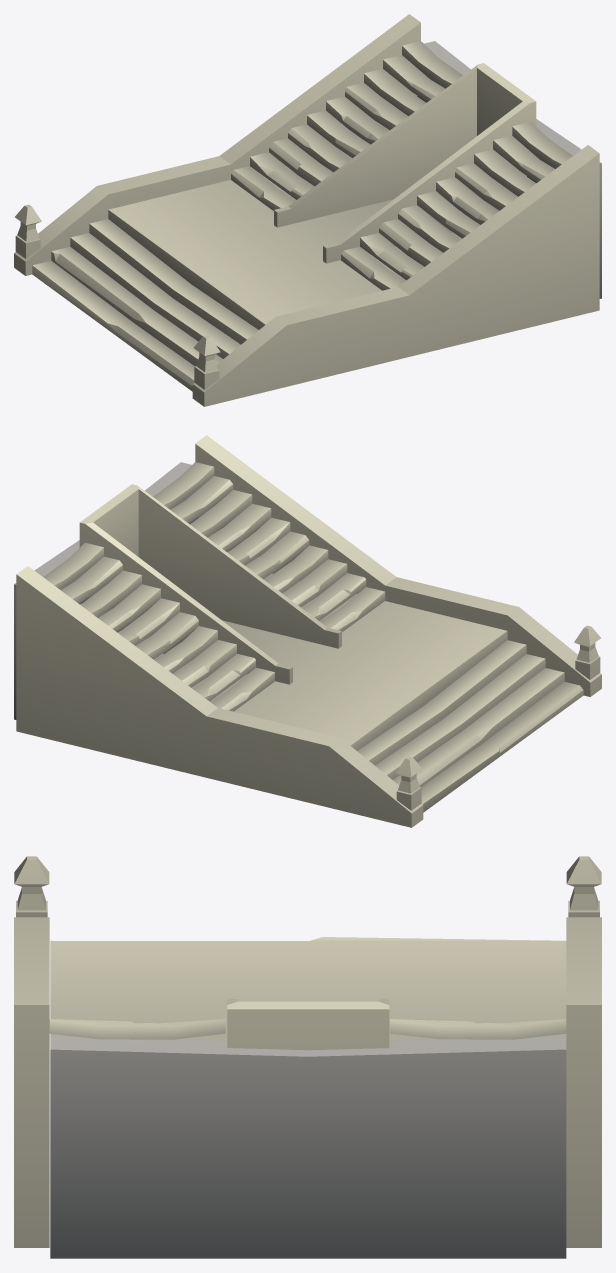
File: m_Stairs.fbx
The picture shows the model from 3 angles, top to bottom: view 1: azimuth 30°, elevation 25°; view 2: azimuth 150°, elevation 25°; view 3: azimuth 270°, elevation 25°; orthographic projection. The views are drawn at different scales.
Parts seen in each view (by area): view 1: polySurface6; view 2: polySurface6; view 3: polySurface6.
Boxes of the visible parts, x1,y1,x2,y2 form: polySurface6: (14,14,601,406); polySurface6: (14,435,601,827); polySurface6: (14,856,601,1258).
Size of the model in its own units: 574 by 211 by 462.
